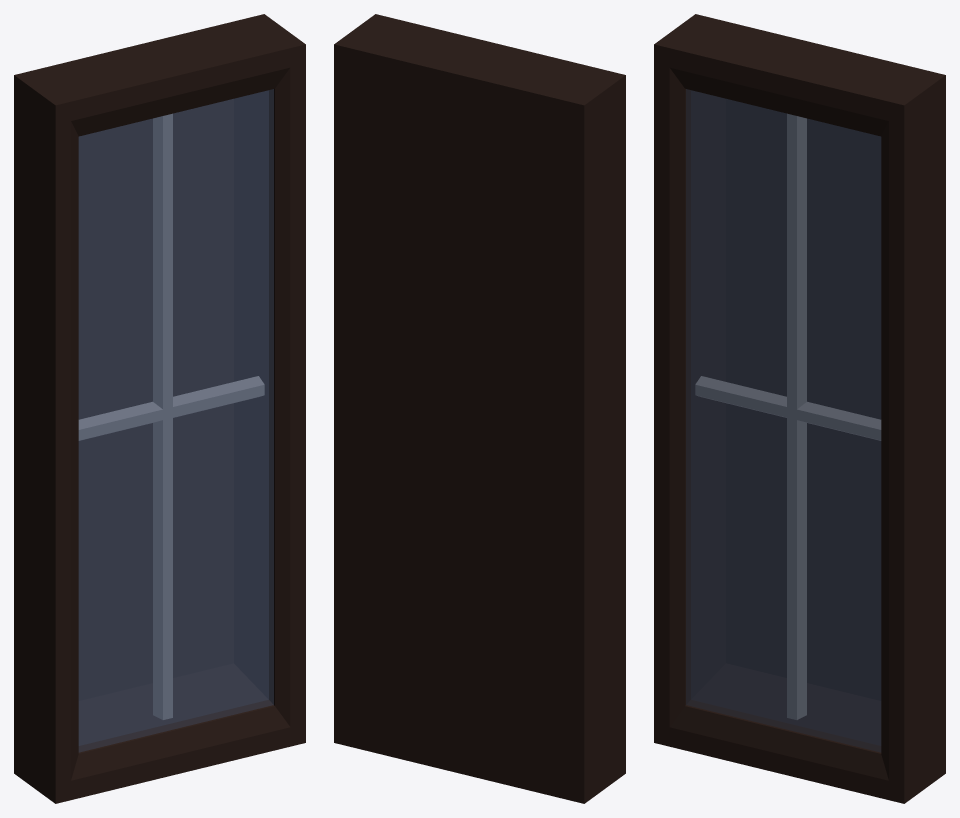
File: Window.fbx
3 renders of one model, left to right at view 1: azimuth 30°, elevation 25°; view 2: azimuth 150°, elevation 25°; view 3: azimuth 330°, elevation 25°, orthographic.
Visible parts, largest first — view 1: Window; view 2: Window; view 3: Window.
Part boxes in pixels (left/top/right/bottom): Window: left=14, top=14, right=305, bottom=803; Window: left=334, top=14, right=625, bottom=803; Window: left=654, top=14, right=945, bottom=803.
Bounding box in the file's own units: 75 × 200 × 21.54.
